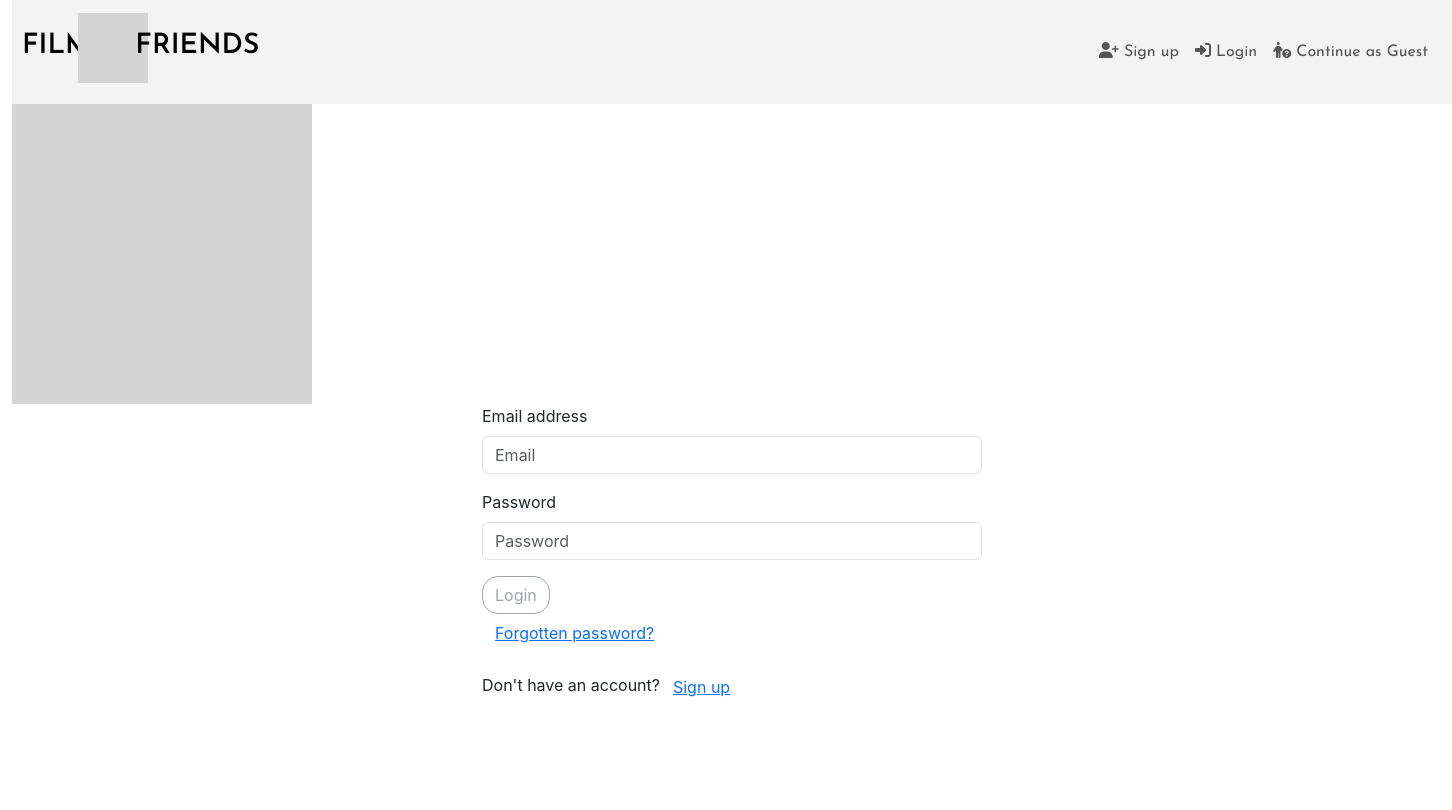
Test: LOGIN FAILURE › Invalid email or password displays appropriate error message and doesn't redirect user to home page
Note: Enter data into form
Type "user@email.com" into the field labelled "Email address" at (732, 455), box left=482, top=436, right=982, bottom=474
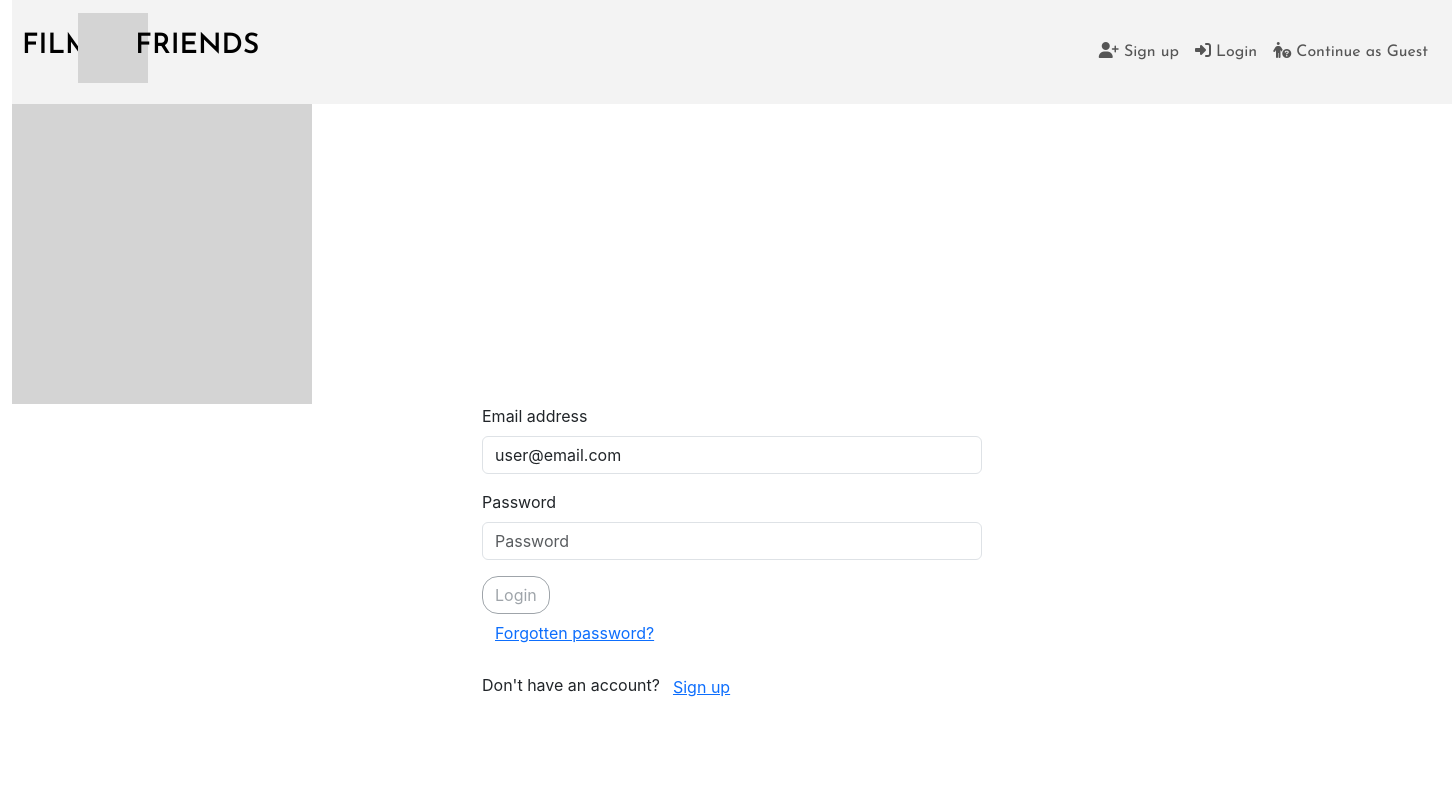
Type "mypwd12345" into the password field labelled "Password" at (732, 541), box left=482, top=522, right=982, bottom=560
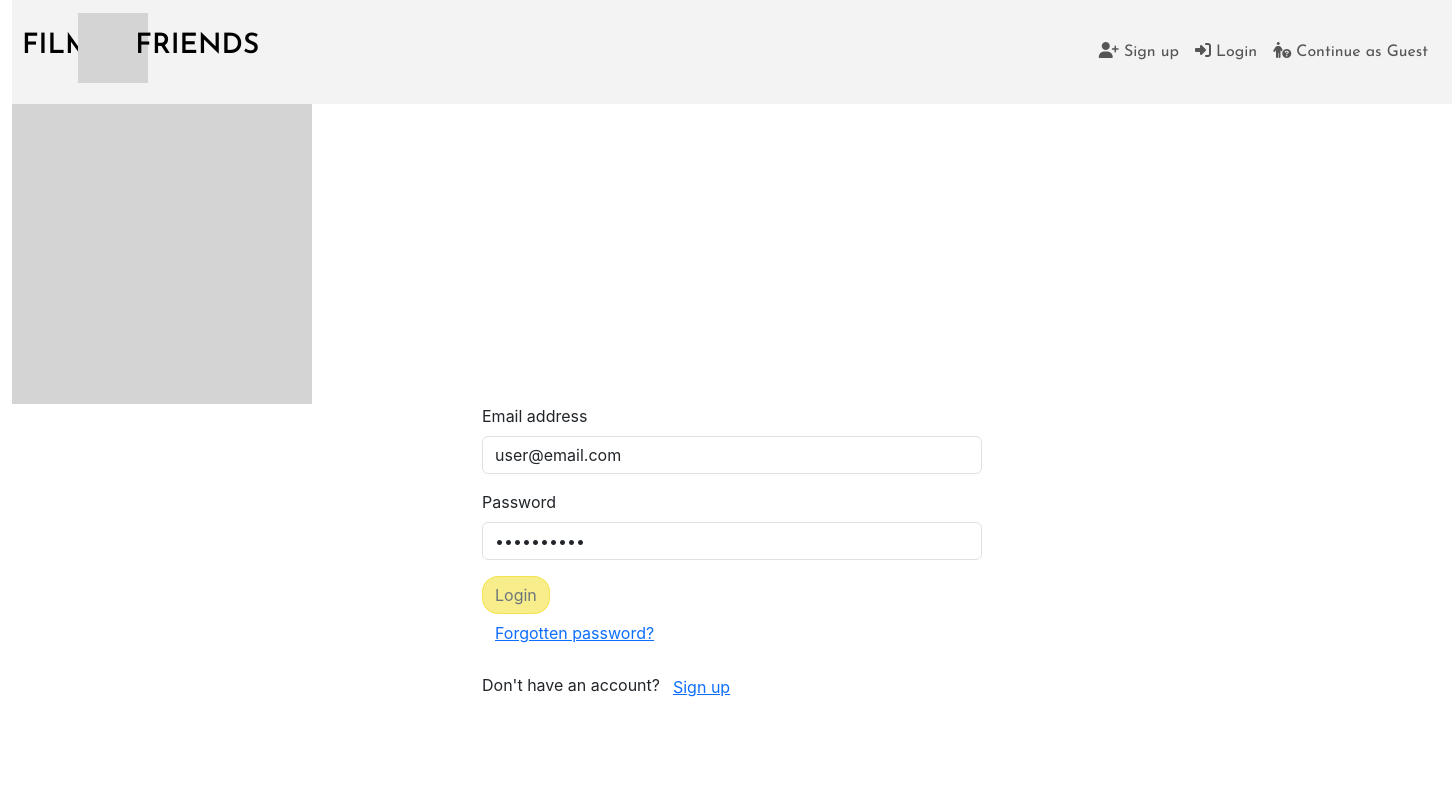
Click the button "Login" at (516, 595), box left=482, top=576, right=550, bottom=614
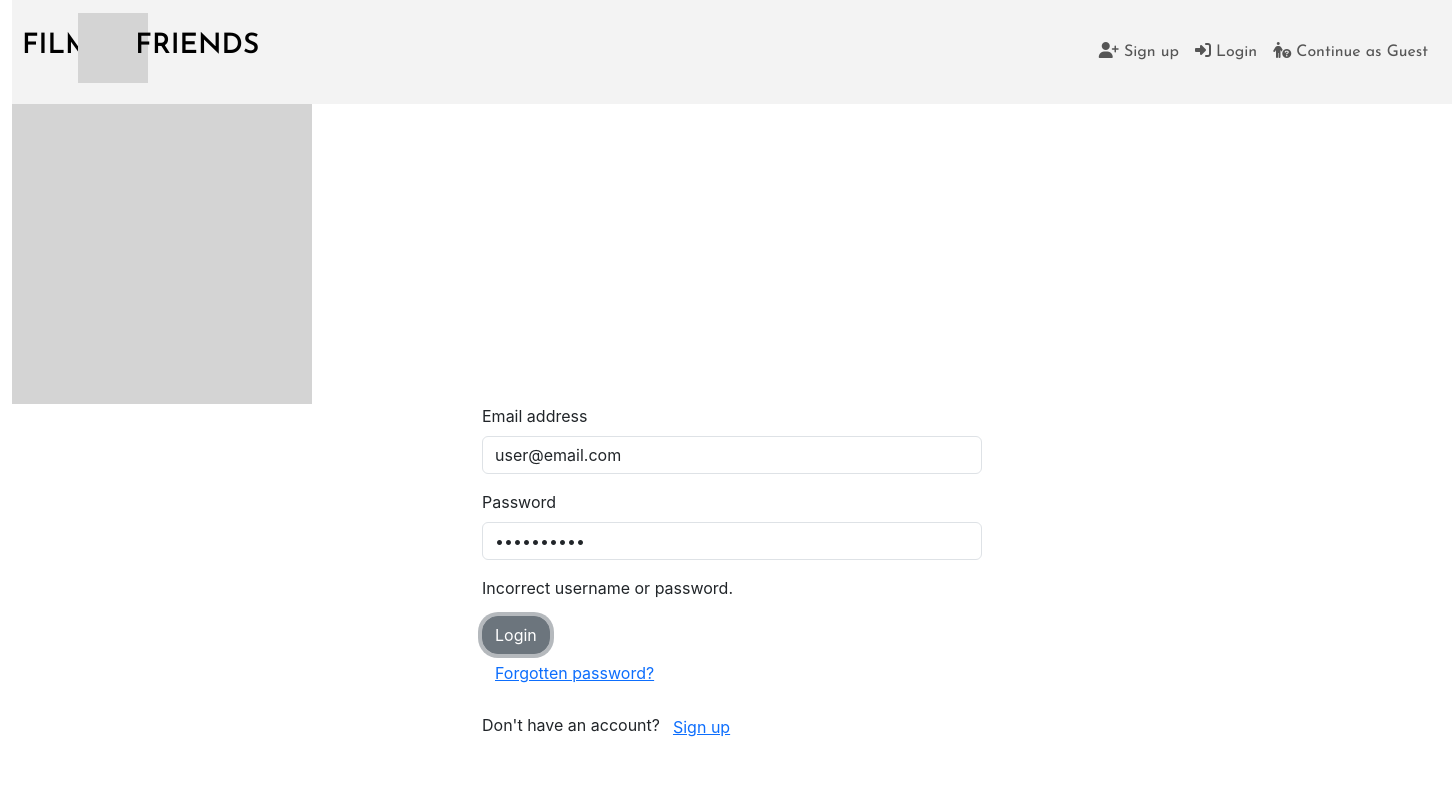
Now the text "Incorrect username or password." is shown, box left=482, top=578, right=733, bottom=598
